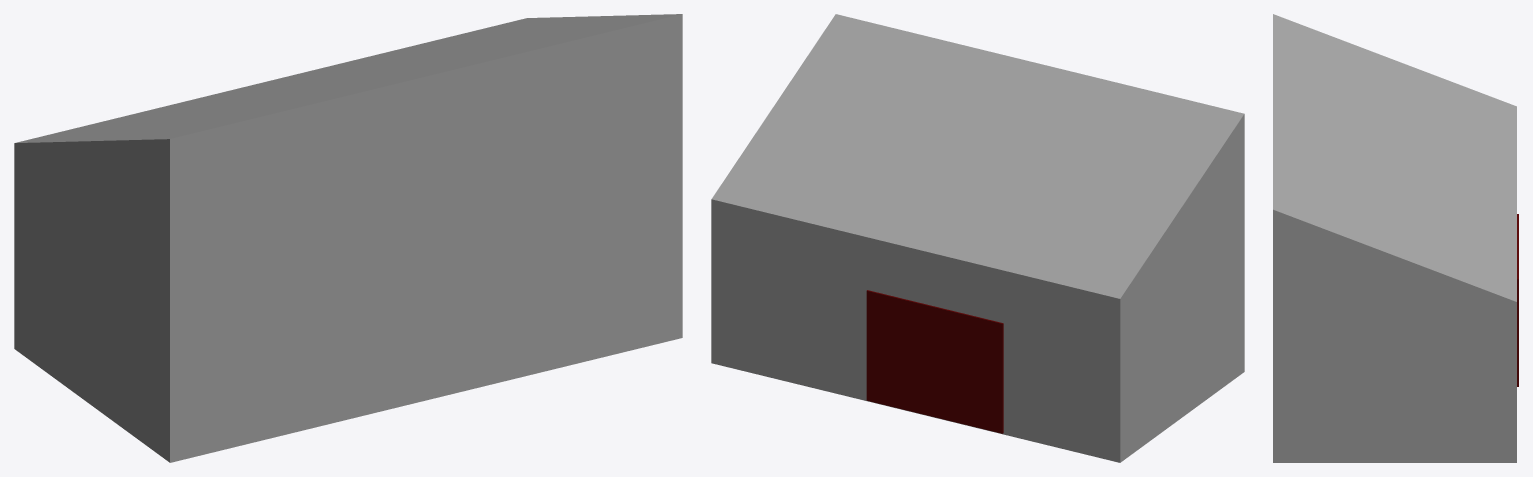
The model's file is Fort mini camp.fbx.
The picture shows the model from 3 angles, left to right: view 1: azimuth 30°, elevation 25°; view 2: azimuth 150°, elevation 25°; view 3: azimuth 270°, elevation 25°; orthographic projection. The views are drawn at different scales.
Parts seen in each view (by area): view 1: castle_Box281; view 2: castle_Box281, castle_Box280; view 3: castle_Box281, castle_Box280.
Part boxes in pixels (box(x1,y1,x2,y2)): castle_Box281: box(14, 14, 682, 462); castle_Box281: box(711, 14, 1244, 462); castle_Box280: box(866, 290, 1003, 433); castle_Box281: box(1273, 14, 1516, 462); castle_Box280: box(1517, 214, 1518, 386).
Size of the model in its own units: 3.2 by 1.93 by 1.7.
